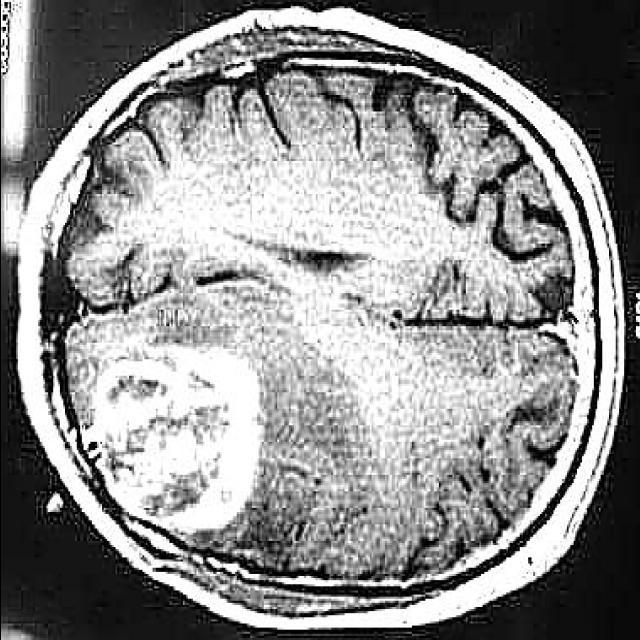tumor: (66, 345, 261, 535)
